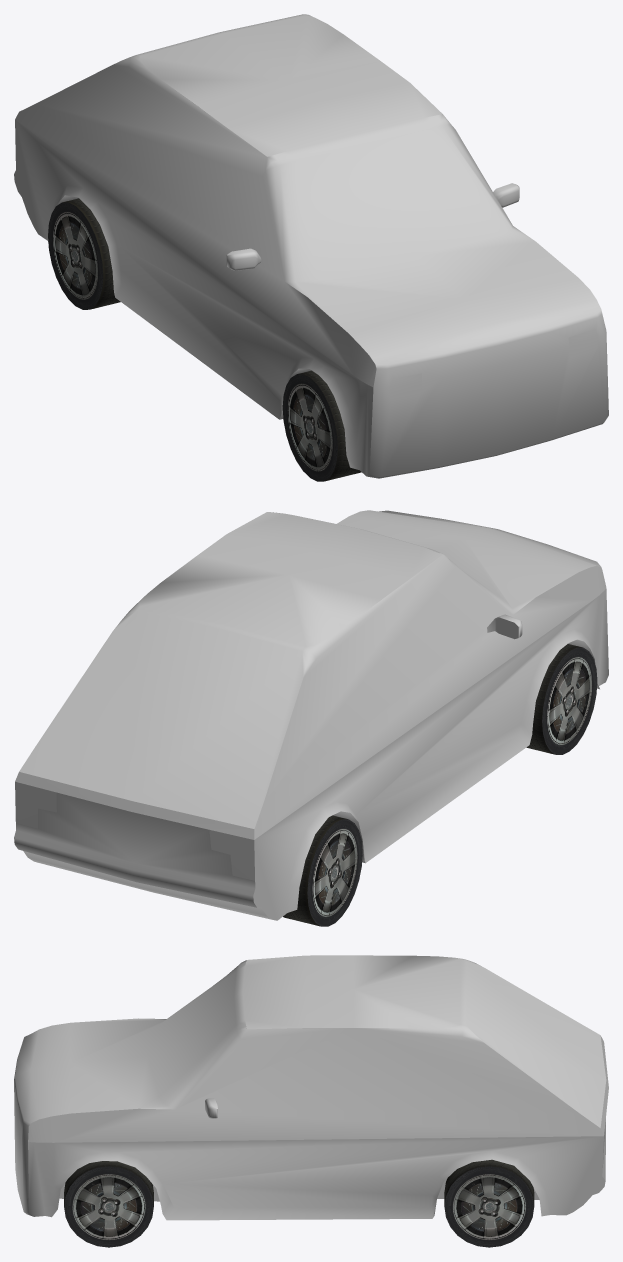
The model's file is Fiat 147-b.fbx.
The picture shows the model from 3 angles, top to bottom: view 1: azimuth 30°, elevation 25°; view 2: azimuth 150°, elevation 25°; view 3: azimuth 270°, elevation 25°; orthographic projection. The views are drawn at different scales.
Parts seen in each view (by area): view 1: Car, BR, FR, Car ON; view 2: Car, BR, FR, Car ON; view 3: Car, BL, FL.
Part boxes in pixels (box(x1,y1,x2,y2)): Car: box(14, 14, 608, 478); BR: box(48, 198, 120, 309); FR: box(282, 370, 361, 481); Car ON: box(389, 329, 597, 400); Car: box(14, 510, 608, 920); BR: box(283, 815, 362, 926); FR: box(526, 644, 597, 754); Car ON: box(15, 781, 254, 880); Car: box(14, 955, 608, 1220); BL: box(444, 1159, 534, 1247); FL: box(64, 1161, 153, 1247).
Bounding box in the file's own units: 1.69 × 1.42 × 3.69.
